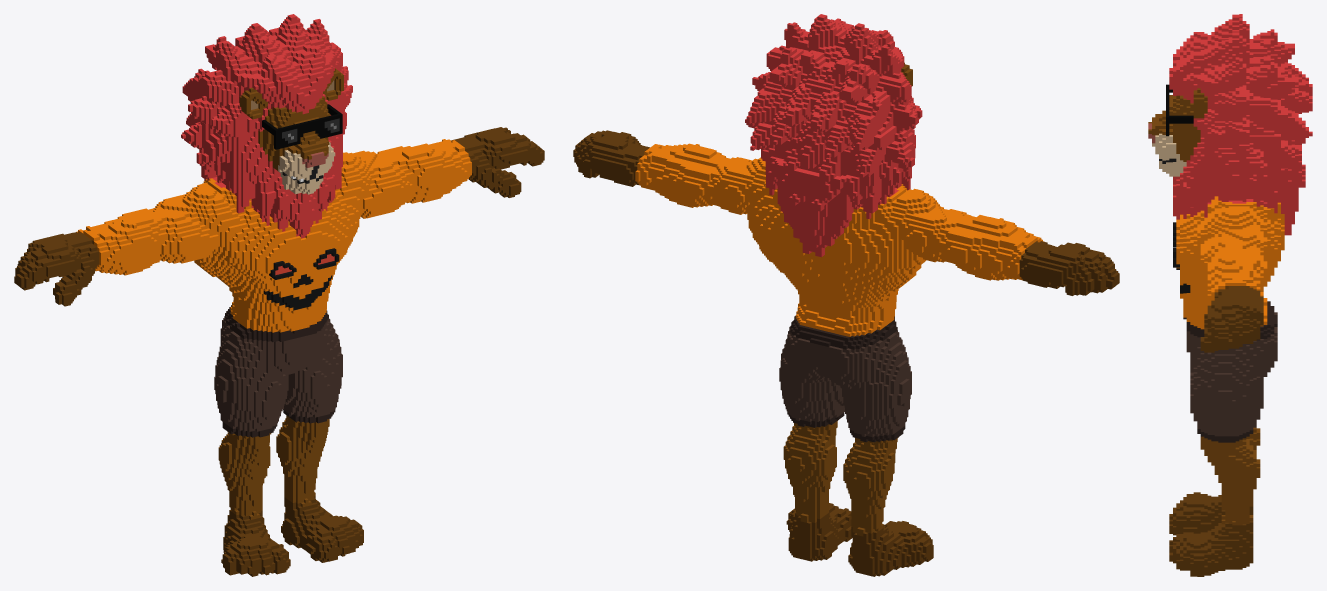
The model's file is 981-CyShI5Qa.glb.
The picture shows the model from 3 angles, left to right: view 1: azimuth 30°, elevation 25°; view 2: azimuth 150°, elevation 25°; view 3: azimuth 270°, elevation 25°; orthographic projection. The views are drawn at different scales.
Parts seen in each view (by area): view 1: smirk; view 2: smirk; view 3: smirk.
Part boxes in pixels (x1,y1,x2,y2): smirk: [14, 14, 544, 576]; smirk: [573, 14, 1119, 576]; smirk: [1148, 14, 1312, 576].
Size of the model in its own units: 17.2 by 16.5 by 4.7.
Materials: 5 (5 with a texture image).
